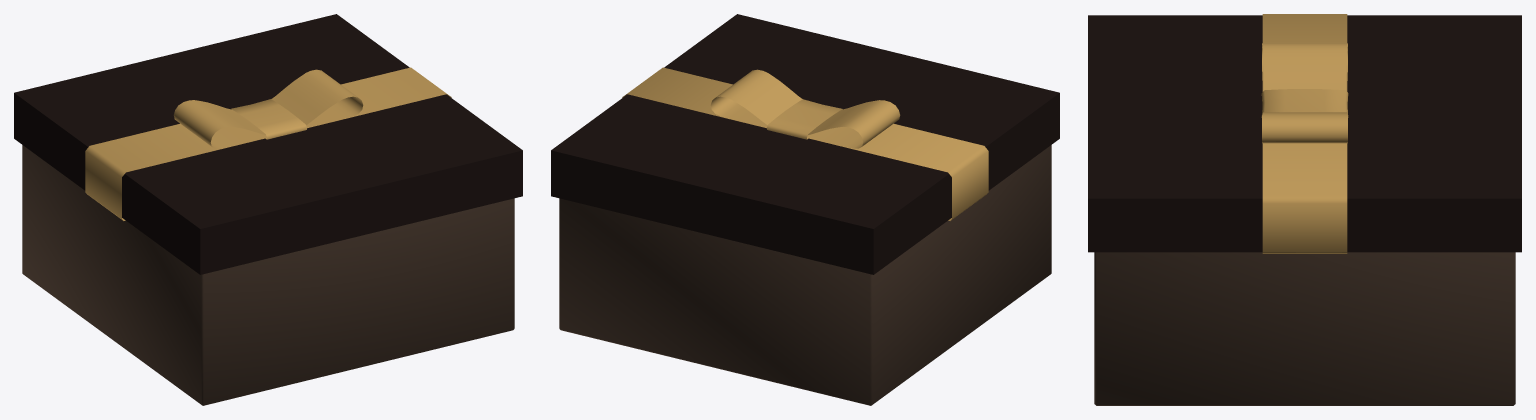
Rendered from Giftbox_MPI01_fbx.fbx.
The picture shows the model from 3 angles, left to right: view 1: azimuth 30°, elevation 25°; view 2: azimuth 150°, elevation 25°; view 3: azimuth 270°, elevation 25°; orthographic projection. The views are drawn at different scales.
Visible parts, largest first — view 1: Giftbox; view 2: Giftbox; view 3: Giftbox.
Boxes of the visible parts, left/top/right/bottom form: Giftbox: left=14, top=14, right=522, bottom=405; Giftbox: left=551, top=14, right=1059, bottom=405; Giftbox: left=1088, top=14, right=1521, bottom=405.
Size of the model in its own units: 12.05 by 7.11 by 11.79.
